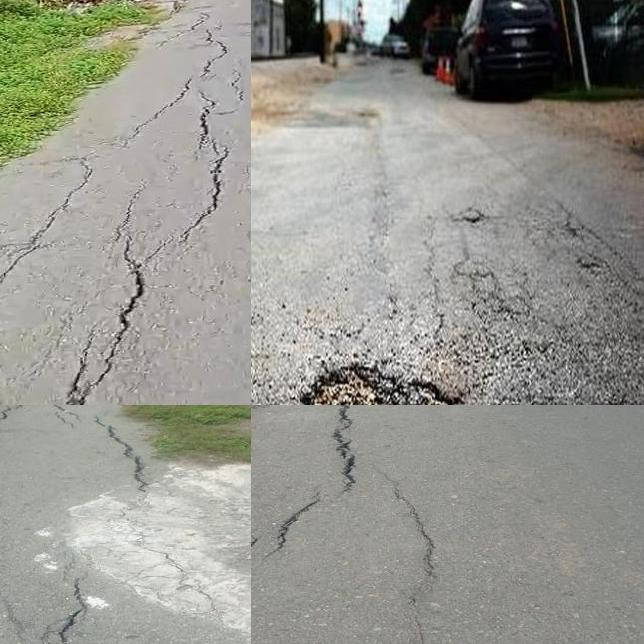Lubang: (318, 372, 454, 405)
Memanjang: (49, 87, 234, 405), (251, 405, 367, 592), (375, 476, 448, 644)
